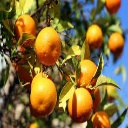orange: (30, 76, 57, 118)
